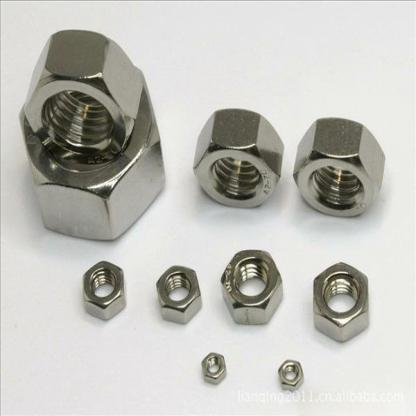FOD: (28, 76, 166, 244), (22, 29, 144, 169), (292, 115, 387, 220), (191, 107, 285, 209), (219, 247, 285, 328), (312, 260, 370, 342), (155, 263, 203, 327), (80, 260, 127, 323), (277, 358, 304, 395), (200, 352, 228, 384)
